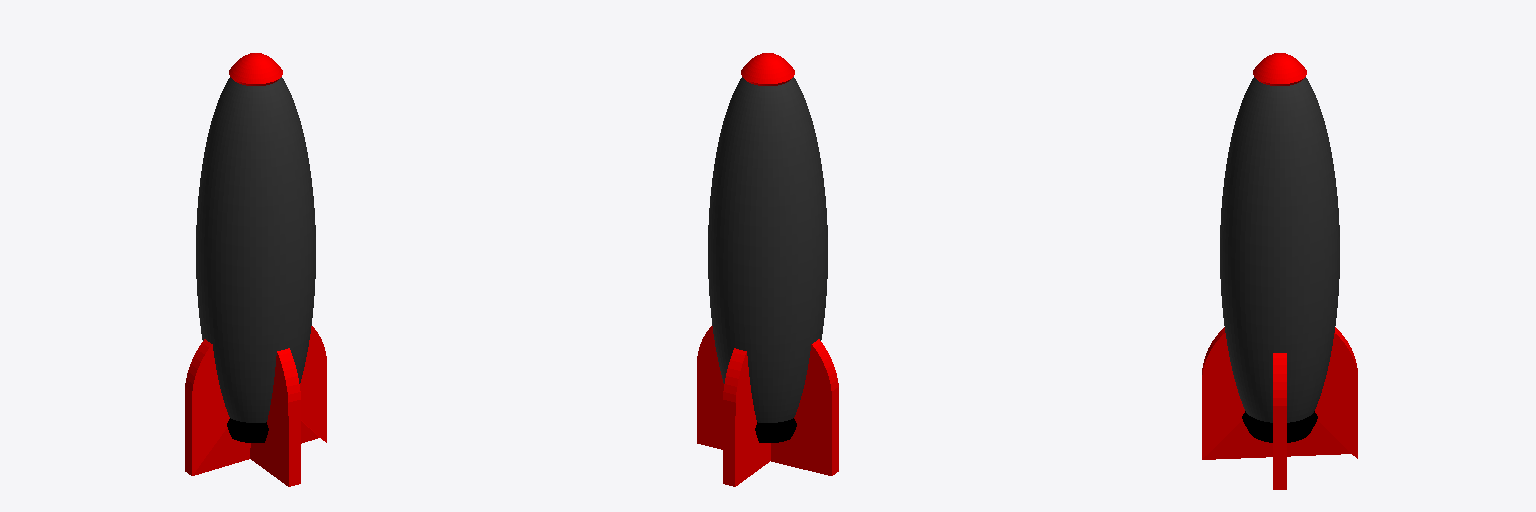
File: CartoonRocket.obj
The picture shows the model from 3 angles: view 1: azimuth 30°, elevation 25°; view 2: azimuth 150°, elevation 25°; view 3: azimuth 270°, elevation 25°; orthographic projection.
Parts seen in each view (by area): view 1: pSphere1, pCylinder2, pCylinder1; view 2: pSphere1, pCylinder2, pCylinder1; view 3: pSphere1, pCylinder1, pCylinder2.
Boxes of the visible parts, x1=… form: pSphere1: x1=196, y1=53, x2=315, y2=442; pCylinder2: x1=185, y1=326, x2=326, y2=475; pCylinder1: x1=250, y1=348, x2=300, y2=486; pSphere1: x1=708, y1=53, x2=827, y2=442; pCylinder2: x1=697, y1=326, x2=838, y2=475; pCylinder1: x1=723, y1=348, x2=770, y2=486; pSphere1: x1=1220, y1=53, x2=1339, y2=442; pCylinder1: x1=1202, y1=327, x2=1357, y2=459; pCylinder2: x1=1273, y1=353, x2=1286, y2=489.
Size of the model in its own units: 2.6 by 7.39 by 2.6.